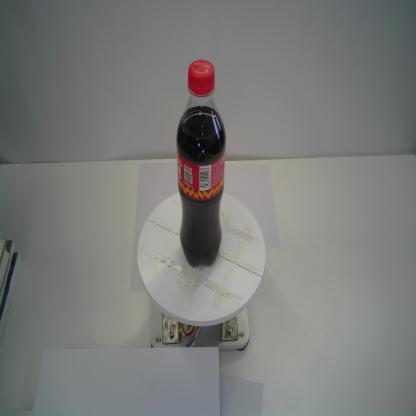Drink: (174, 57, 228, 272)
